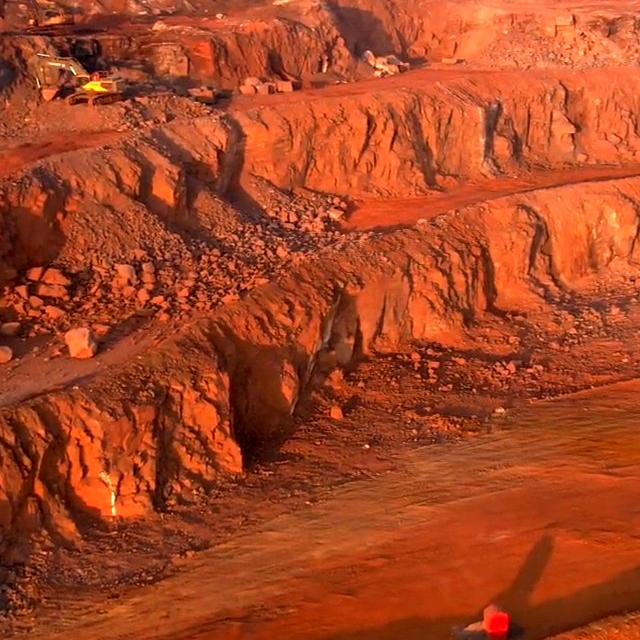Excavator: (70, 68, 129, 105)
